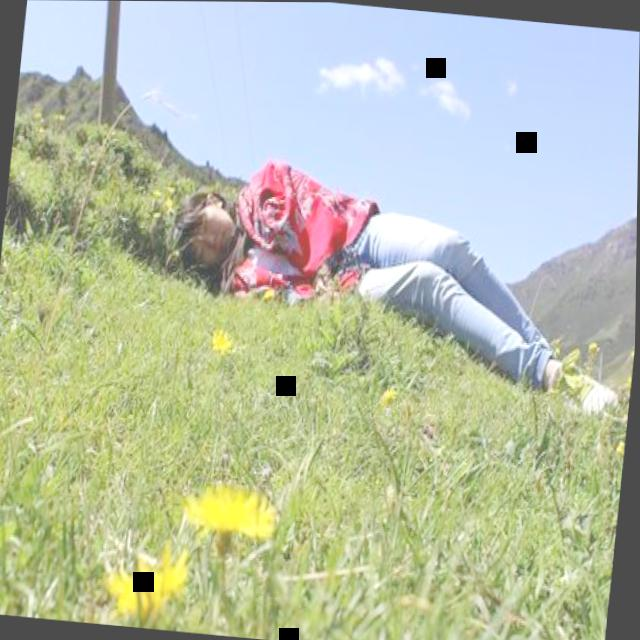Fall-Detected: (154, 117, 636, 415)
